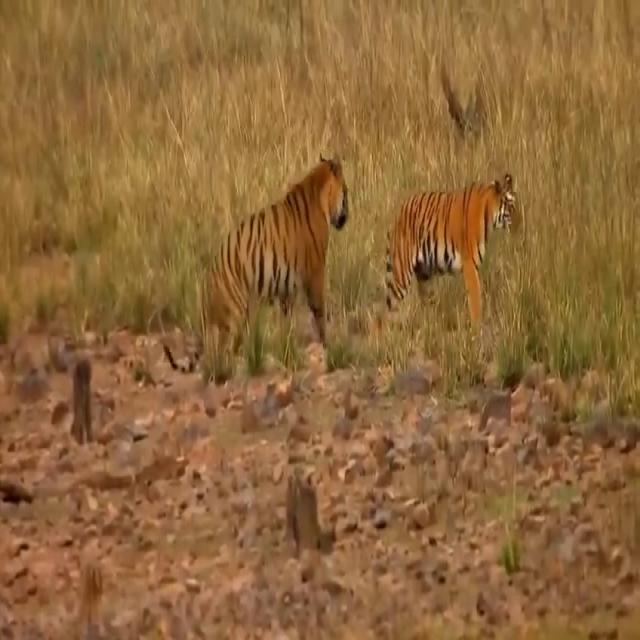tiger: (162, 153, 350, 378), (385, 171, 521, 333)
